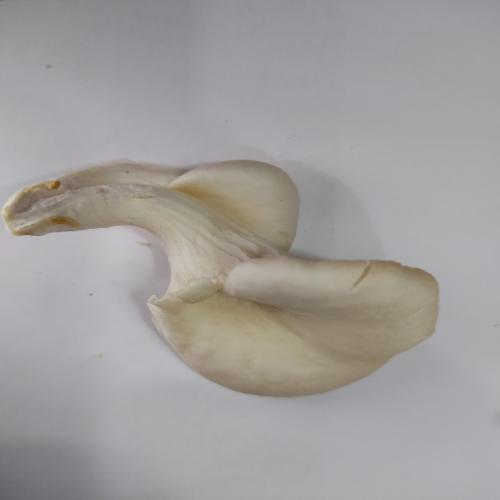Oyster Mushroom: (2, 157, 440, 398)
